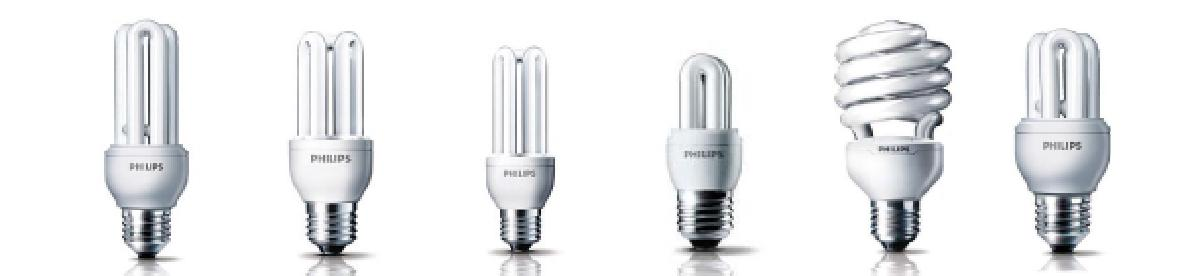Light bulb: (830, 15, 956, 255), (1012, 27, 1115, 255), (102, 18, 193, 267), (284, 25, 379, 258), (482, 39, 560, 259), (662, 48, 743, 254)
